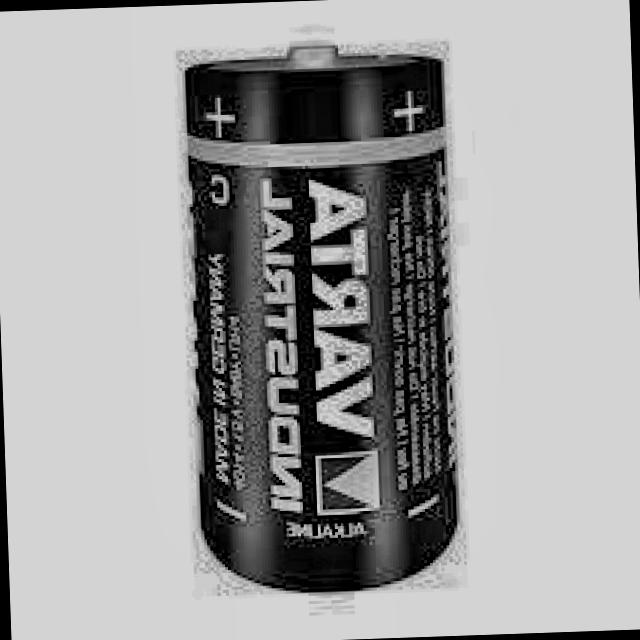Battery: (184, 41, 462, 593)
